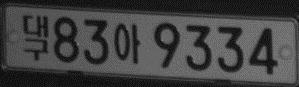3: (185, 24, 212, 71), (218, 25, 244, 72), (84, 18, 109, 65)
4: (249, 28, 279, 75)
8: (52, 15, 79, 62)
9: (154, 22, 180, 67)
대구_V: (22, 14, 49, 60)
아: (113, 23, 140, 64)
